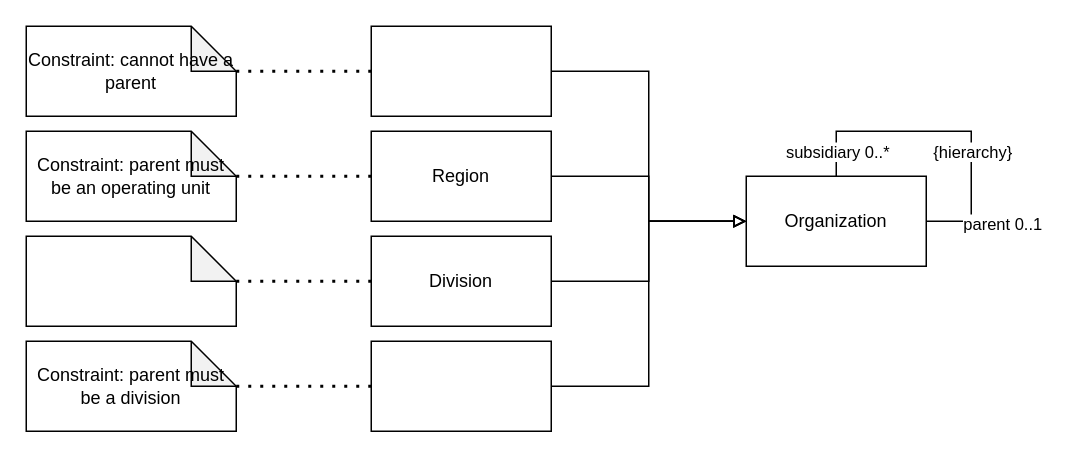
Image size: 1068x458. Some labels were removed from this diagram. Each missing label, with the centre of its shape:
Constraint: parent must be a region: point 130,280
Operating Unit: point 460,70
Sales Office: point 460,385
